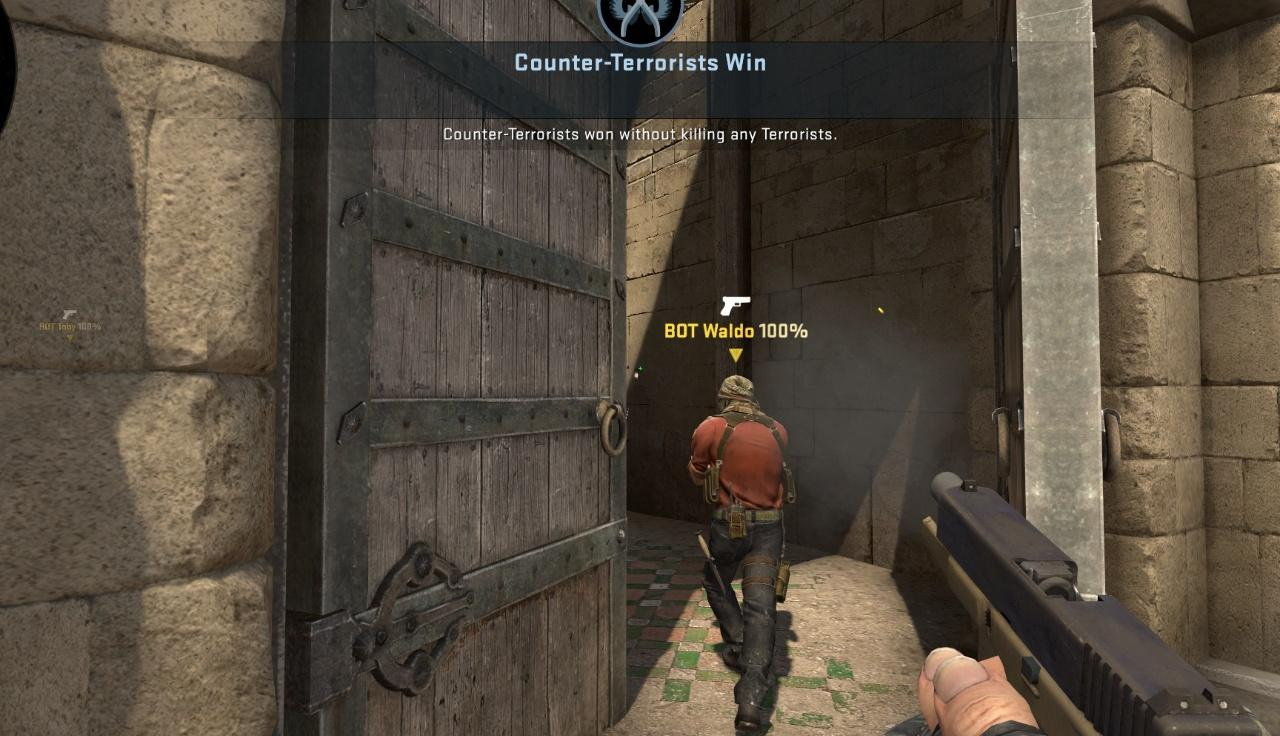pistol: (916, 468, 1280, 736)
tt: (687, 375, 795, 736)
tthead: (718, 375, 757, 417)
